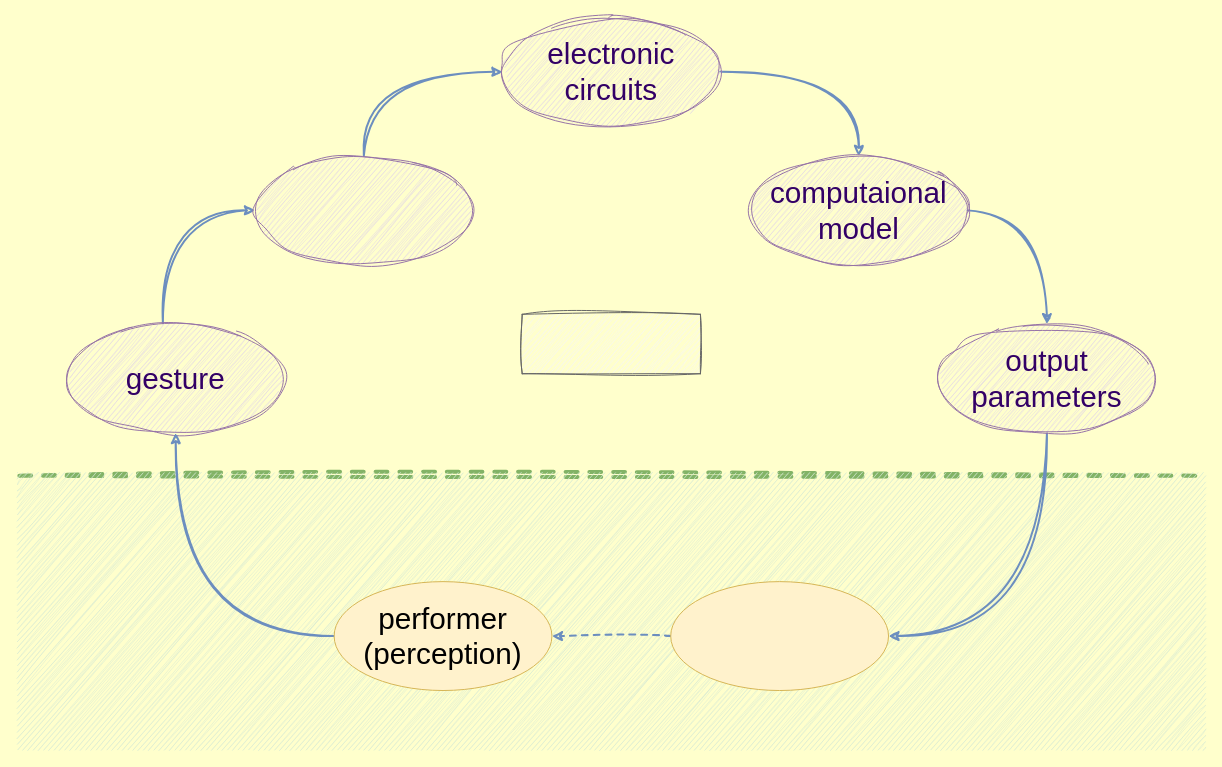
This 1222x767 diagram has some shape labels left out. Each missing label, with the box of its shape:
"Invisible": (521, 313, 700, 374)
output media: (670, 581, 889, 691)
sensors: (254, 155, 473, 265)
